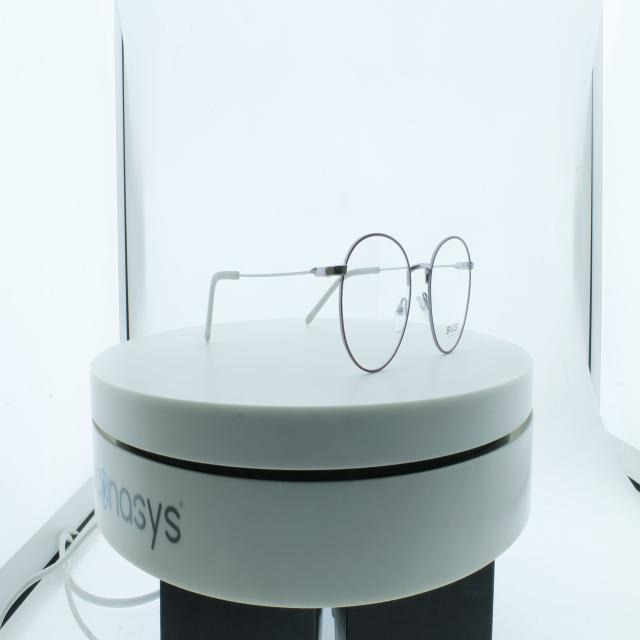Specs: (201, 220, 476, 384)
